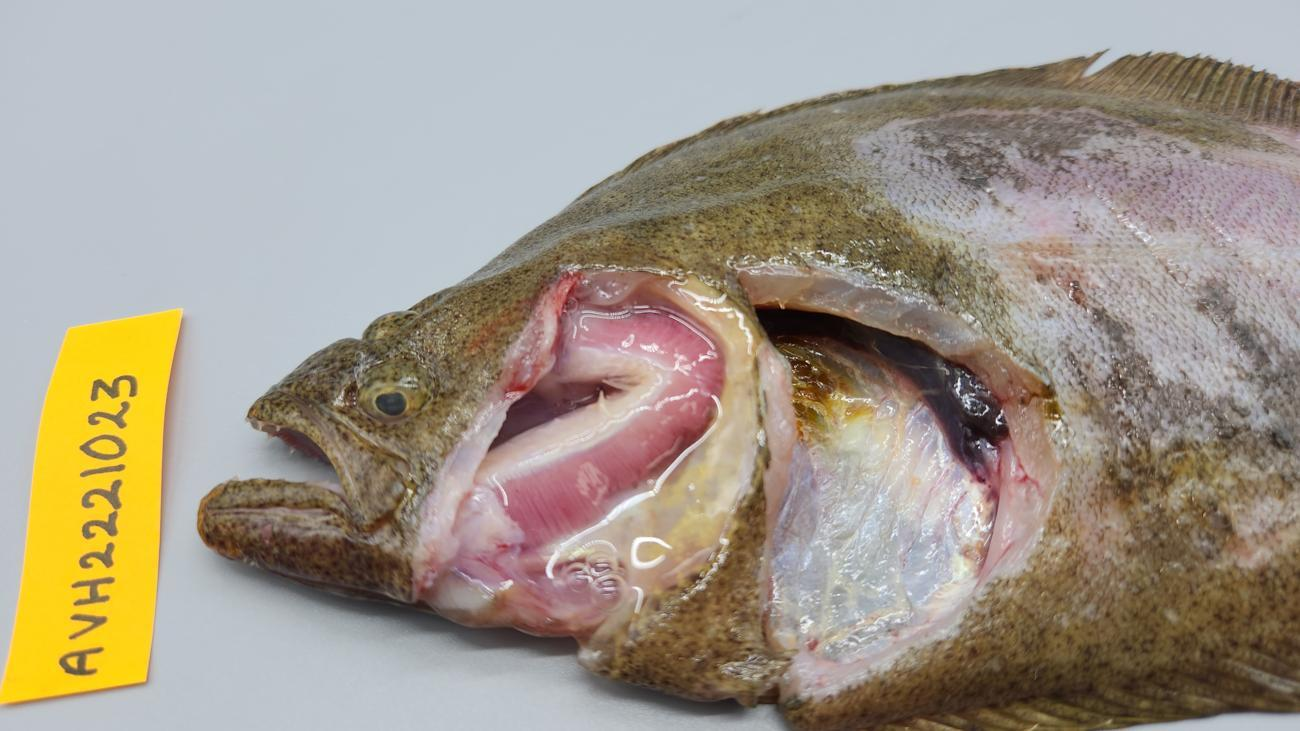VIKIE: (748, 296, 1002, 483)
